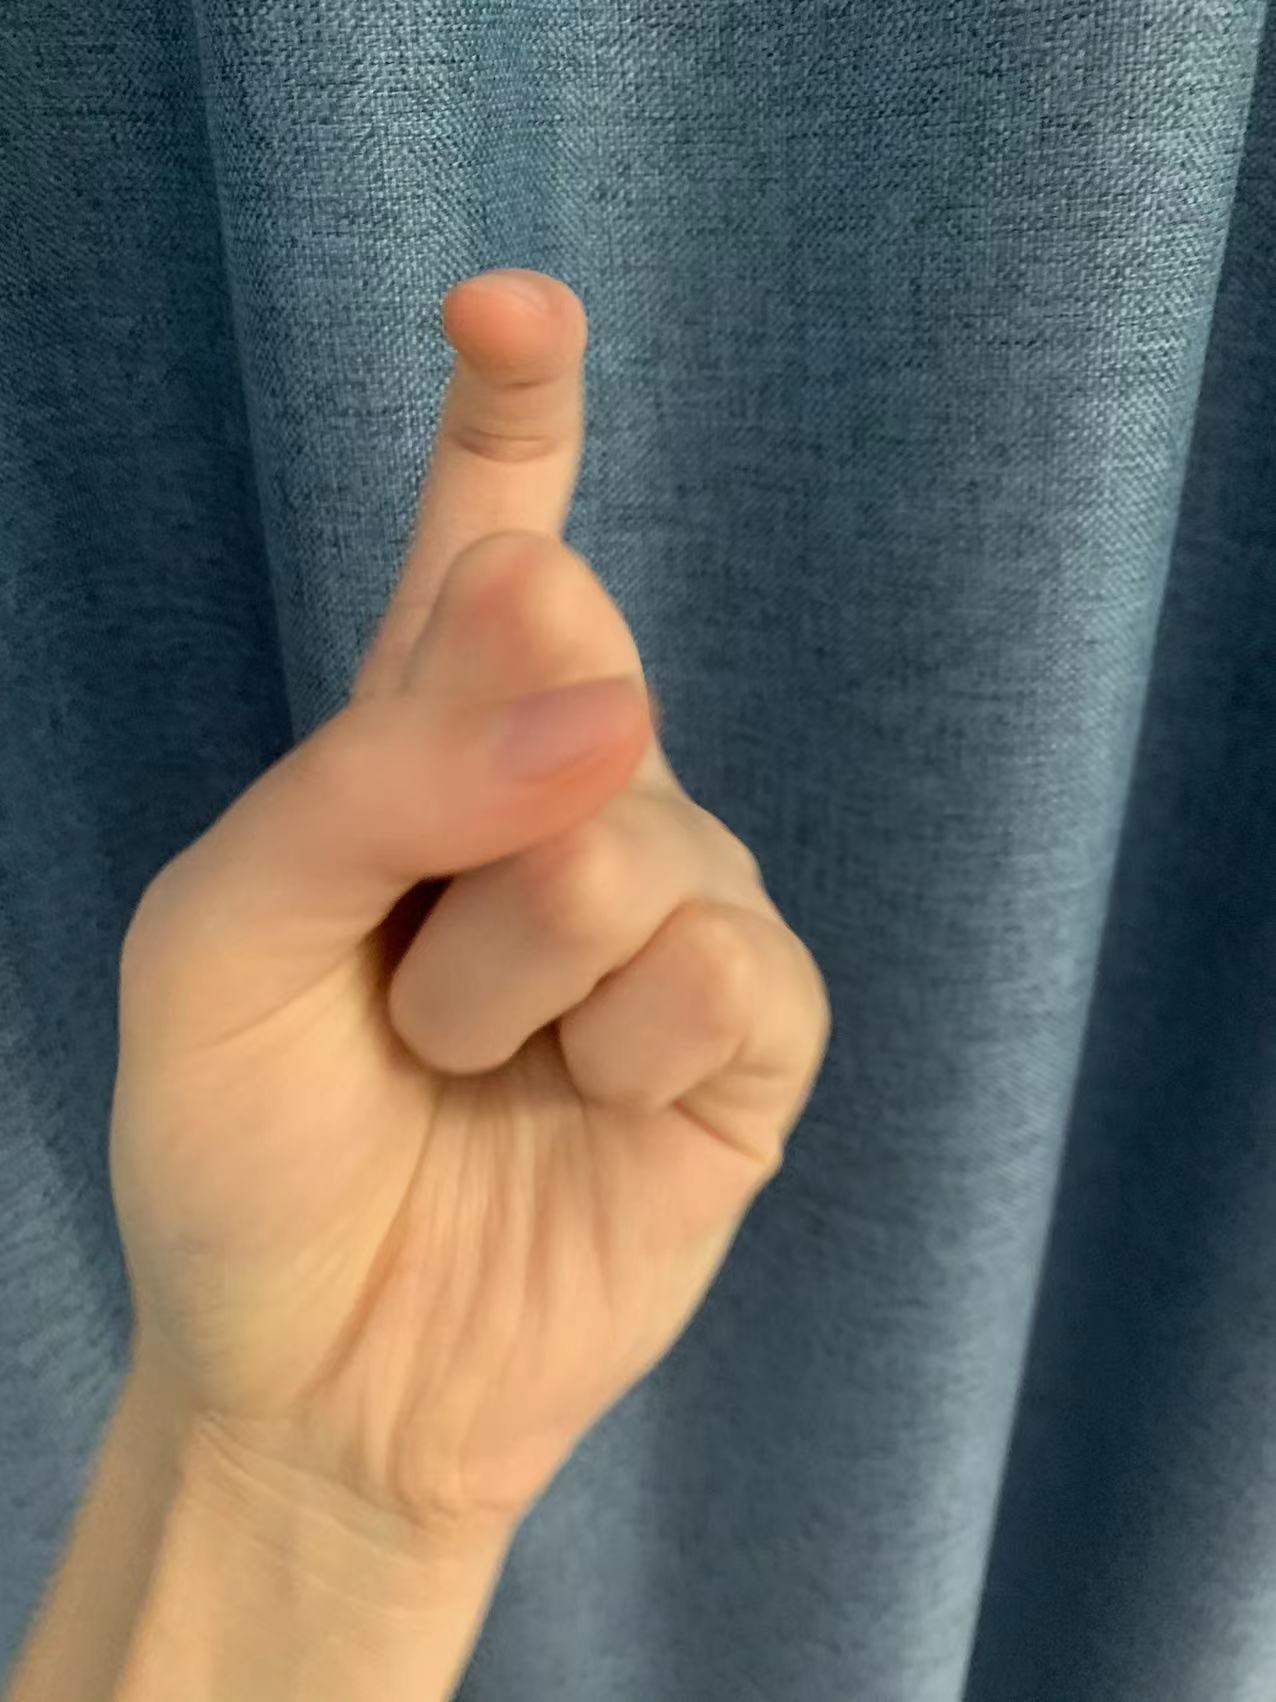anticlockwise: (76, 259, 836, 1391)
